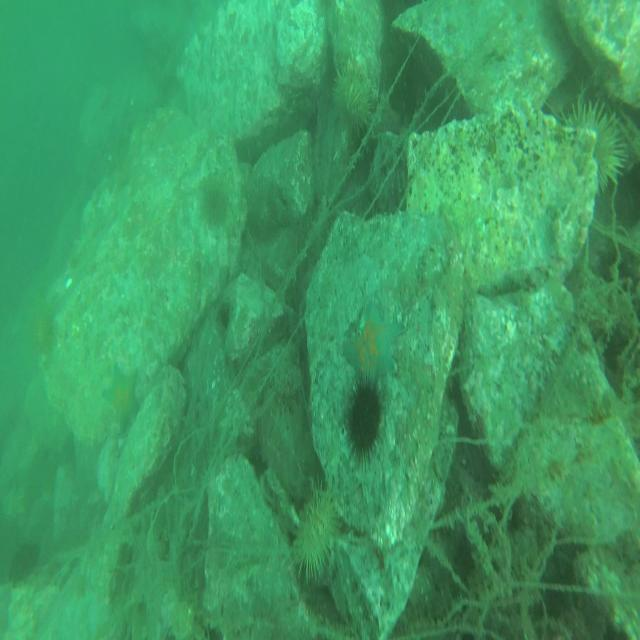echinus: (564, 99, 627, 193), (285, 487, 344, 586), (340, 367, 385, 478), (332, 62, 379, 136), (191, 173, 233, 236), (8, 540, 42, 590)
starfish: (343, 300, 405, 398), (100, 362, 144, 436)
